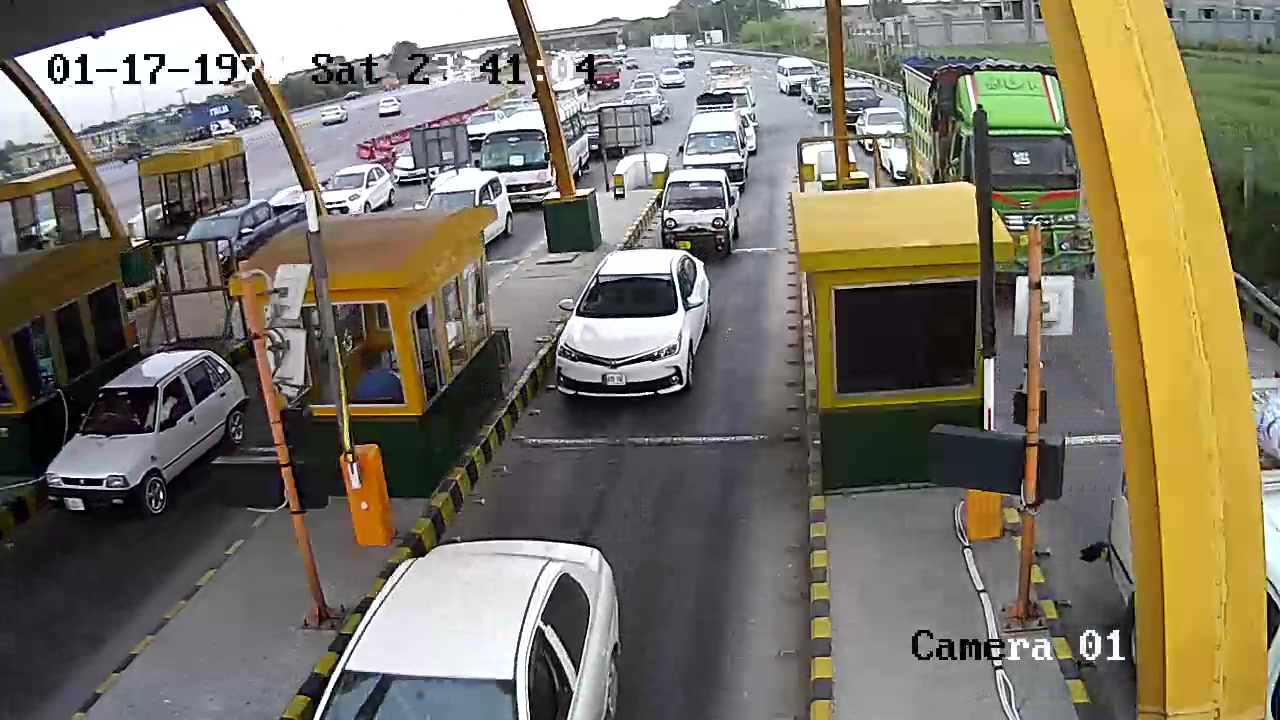F1: (544, 245, 725, 414)
